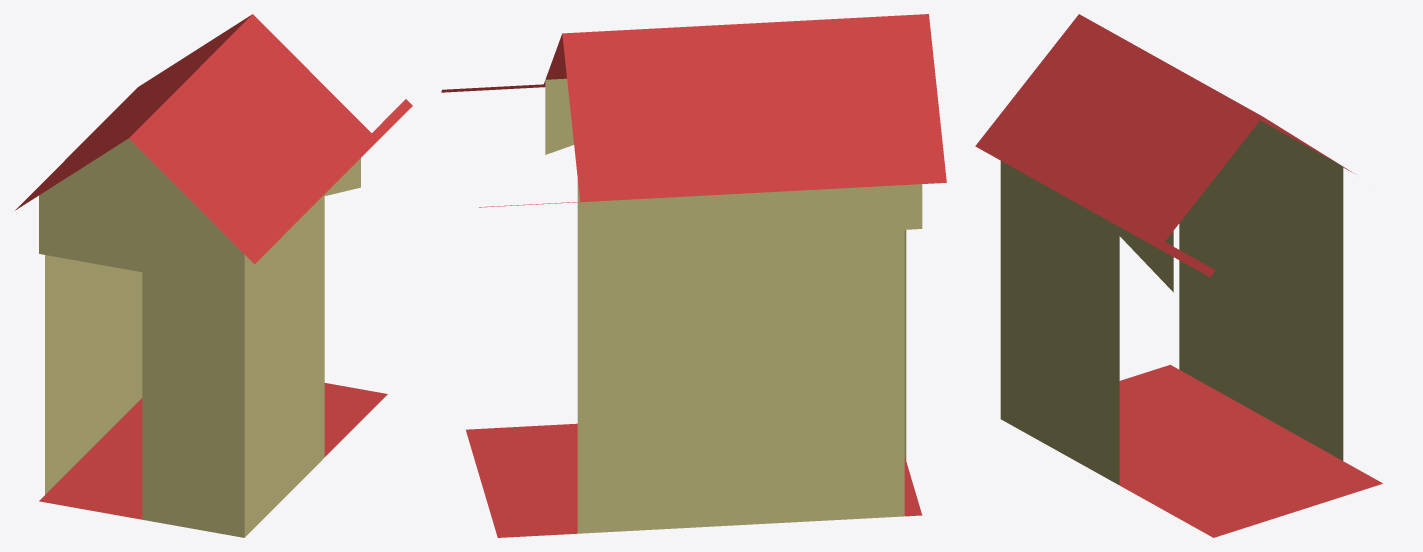
3 views of the same model, side by side, from view 1: azimuth 30°, elevation 25°; view 2: azimuth 150°, elevation 25°; view 3: azimuth 270°, elevation 25° (orthographic). The views are drawn at different scales.
Bounding box in the file's own units: 19.08 × 17.96 × 16.92.
